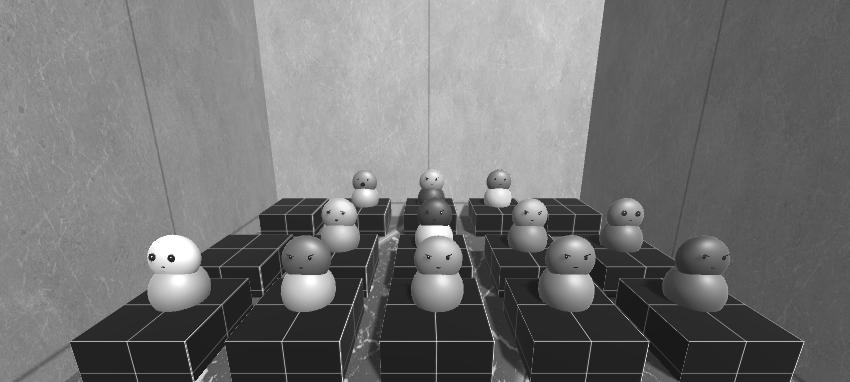blob_atento: (143, 234, 209, 312), (596, 197, 651, 261)
blob_entediado: (309, 197, 363, 254)
blob_normal: (483, 167, 514, 214)
blob_raiva: (662, 231, 740, 317), (533, 231, 596, 321), (272, 236, 338, 309), (408, 233, 463, 313), (502, 200, 555, 254), (407, 199, 458, 254), (417, 168, 448, 209)
blob_surpreso: (346, 165, 380, 210)
